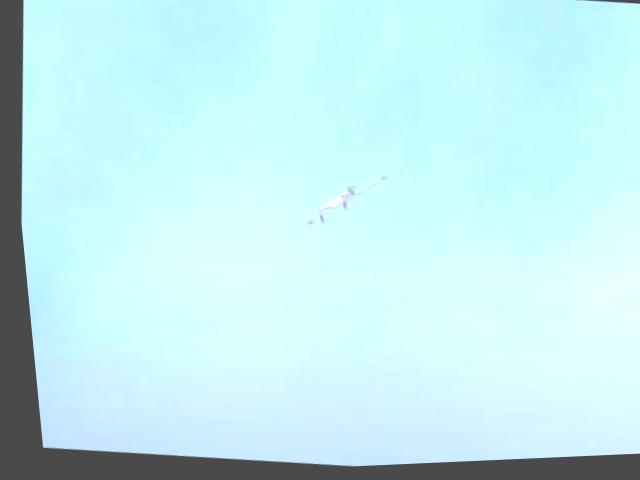iha: (301, 170, 384, 234)
